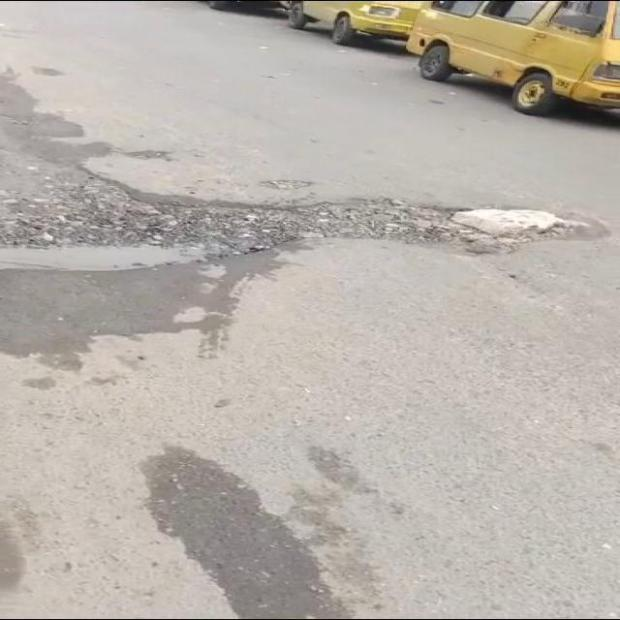lubang: (0, 165, 608, 268)
